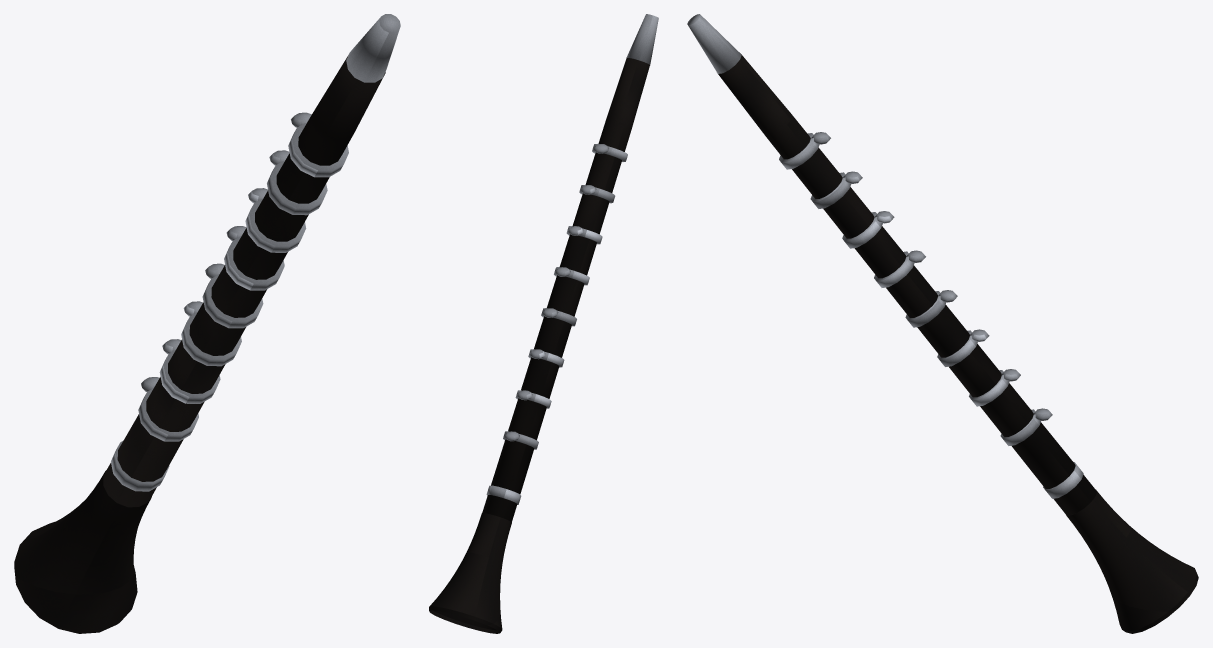
File: banda_clarinete.obj
The picture shows the model from 3 angles, left to right: view 1: azimuth 30°, elevation 25°; view 2: azimuth 150°, elevation 25°; view 3: azimuth 270°, elevation 25°; orthographic projection. The views are drawn at different scales.
Visible parts, largest first — view 1: banda_clarinete; view 2: banda_clarinete; view 3: banda_clarinete.
Boxes of the visible parts, x1,y1,x2,y2 form: banda_clarinete: (14, 14, 400, 633); banda_clarinete: (429, 14, 658, 633); banda_clarinete: (687, 14, 1198, 633).
Size of the model in its own units: 0.0788 by 0.5641 by 0.4273.
Materials: 2 (2 with a texture image).
